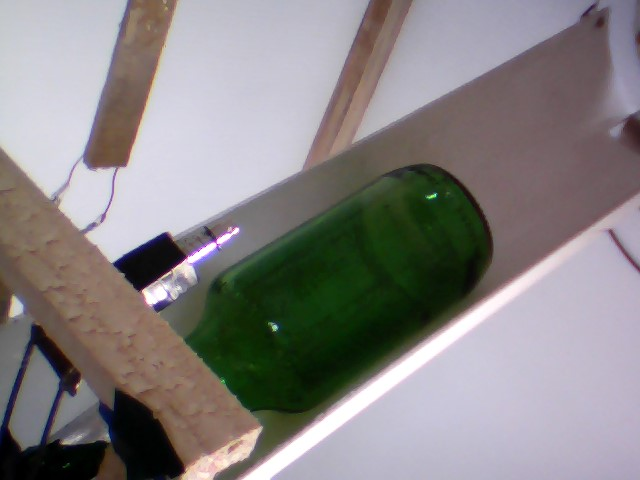vidrio: (177, 154, 498, 421)
